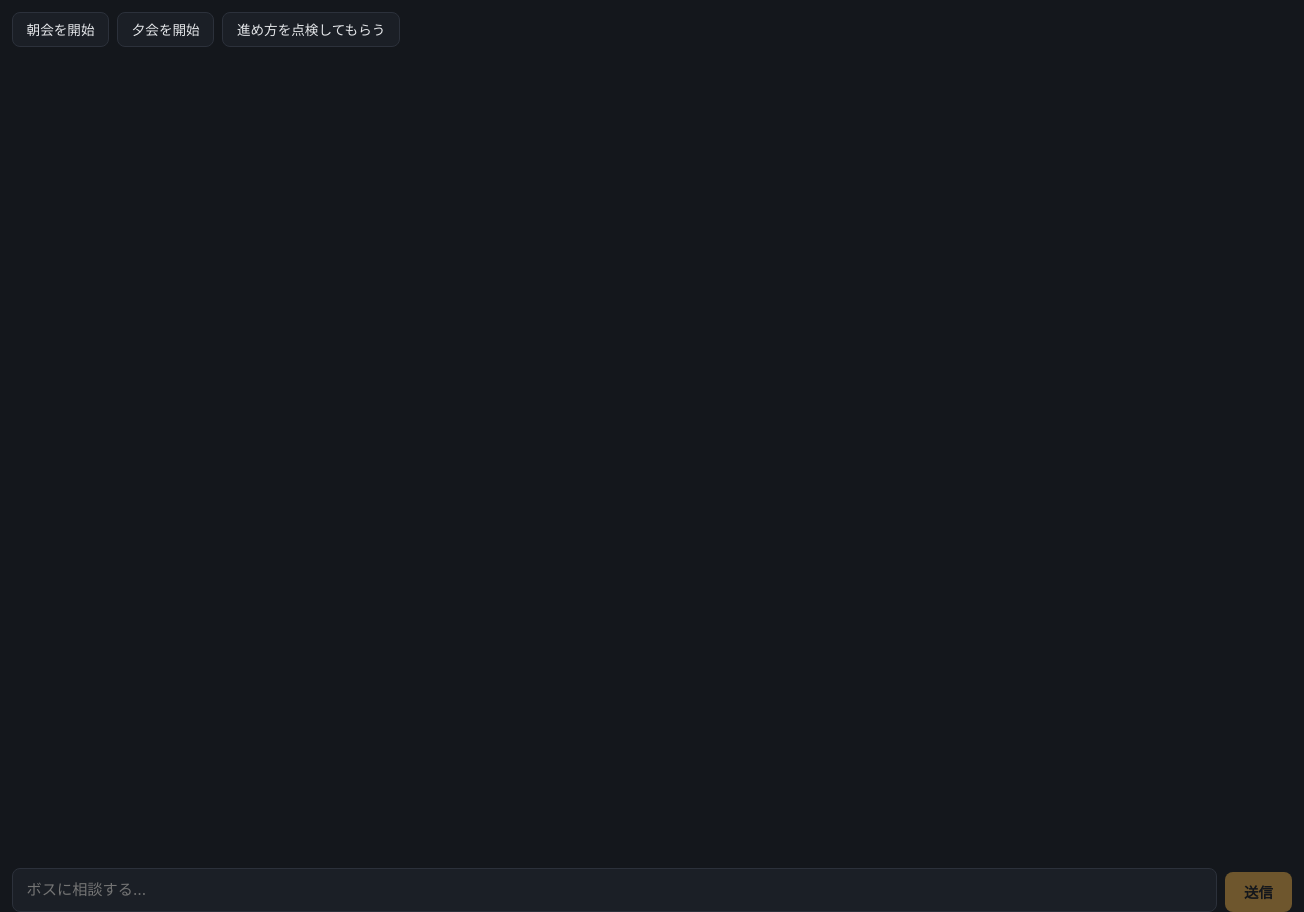
Test: ChatView › sends the draft and renders the boss reply
Type "相談があります" into the text box named "メッセージ". click: point(614, 890)
box: [12,868,1217,911]
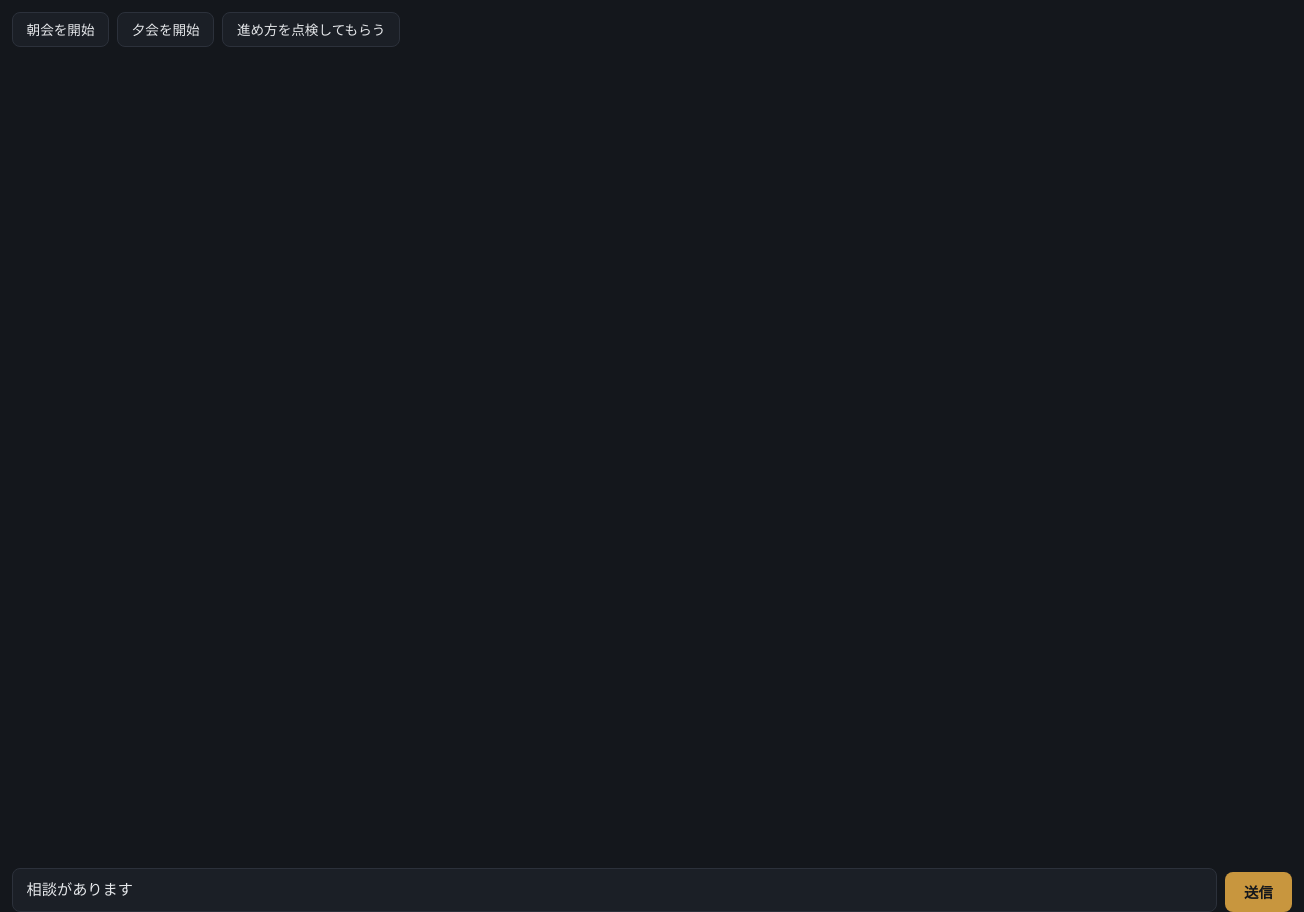
Click the button "送信". click: point(1258, 892)
box: [1225,872,1292,911]
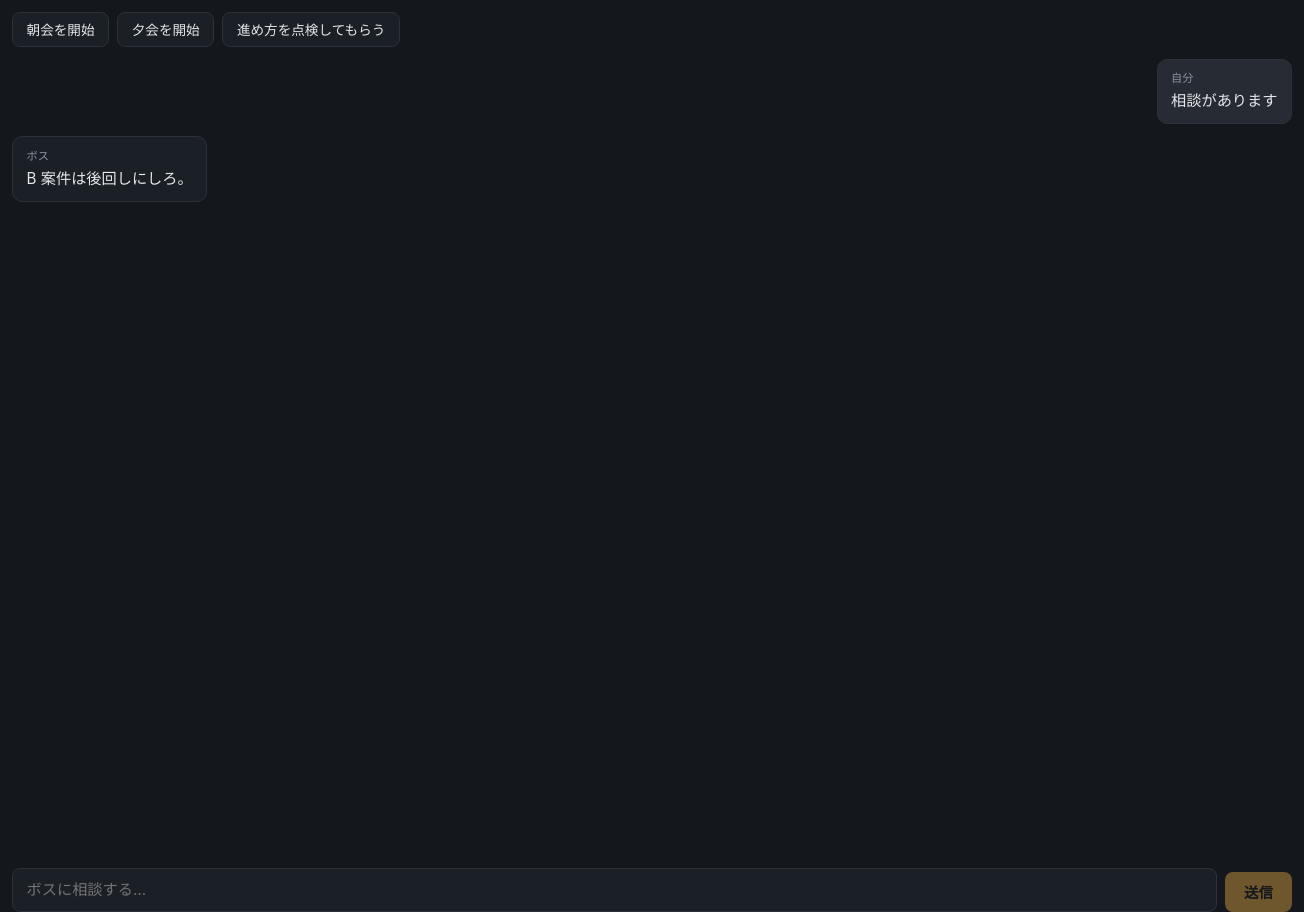
Now the text "B 案件は後回しにしろ。" is shown, box [27,167,193,191]
Now the text "相談があります" is shown, box [1171,89,1277,114]
Now the text box named "メッセージ" is empty, box [12,868,1217,911]
